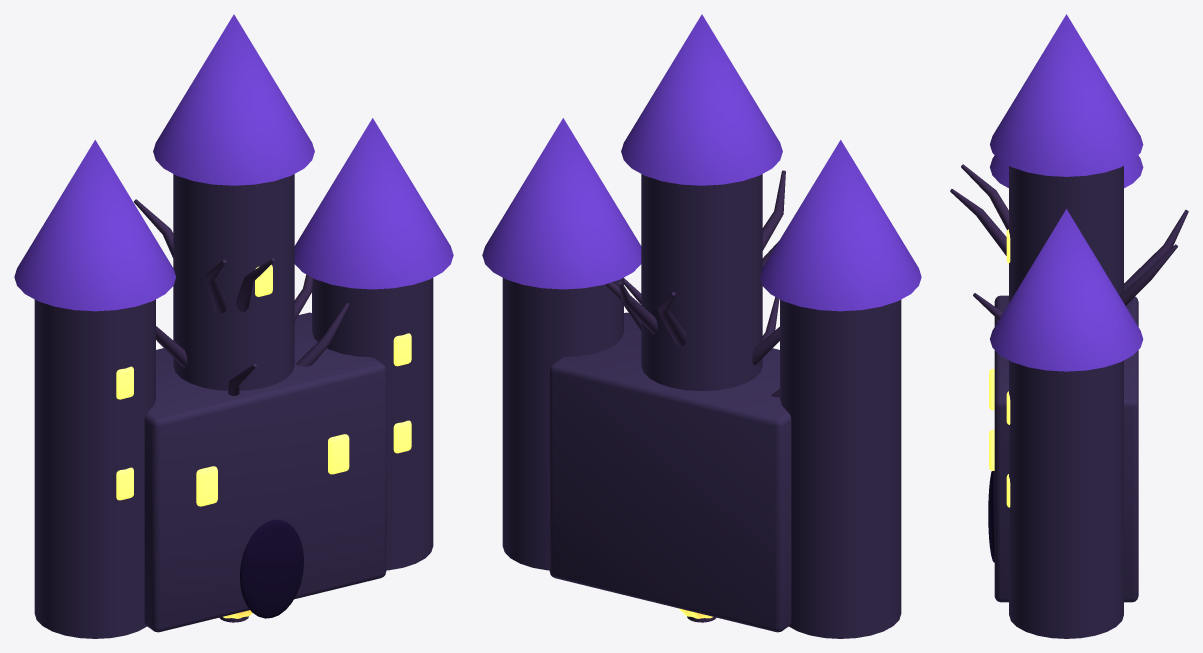
Rendered from kit_spooky.glb.
The picture shows the model from 3 angles, left to right: view 1: azimuth 30°, elevation 25°; view 2: azimuth 150°, elevation 25°; view 3: azimuth 270°, elevation 25°; orthographic projection. The views are drawn at different scales.
Parts seen in each view (by area): view 1: castle_mesh, spookytree1_mesh, spookytree0_mesh; view 2: castle_mesh, spookytree1_mesh, spookytree0_mesh; view 3: castle_mesh, spookytree1_mesh, spookytree0_mesh.
Part boxes in pixels (x1,y1,x2,y2): castle_mesh: [14, 14, 453, 638]; spookytree1_mesh: [134, 199, 313, 395]; spookytree0_mesh: [156, 259, 349, 367]; castle_mesh: [482, 14, 921, 638]; spookytree1_mesh: [605, 170, 785, 346]; spookytree0_mesh: [618, 241, 779, 397]; castle_mesh: [988, 14, 1143, 638]; spookytree1_mesh: [950, 189, 1188, 320]; spookytree0_mesh: [961, 164, 1177, 305].
Size of the model in its own units: 2.86 by 3.94 by 1.49.
